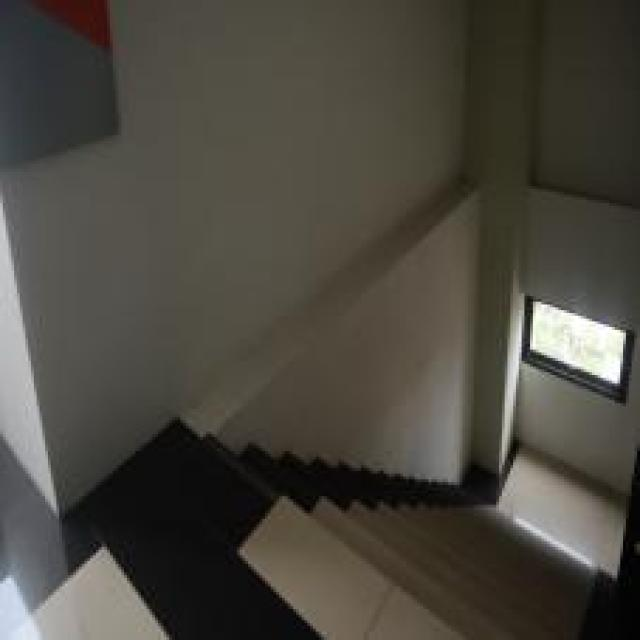downstair: (224, 469, 613, 638)
